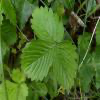Strawberry leaf: (19, 38, 57, 83), (29, 5, 65, 49), (54, 40, 78, 93)
